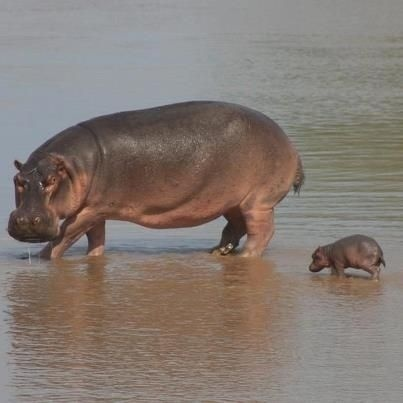hipopotamo: (7, 75, 311, 278), (305, 223, 393, 285)
